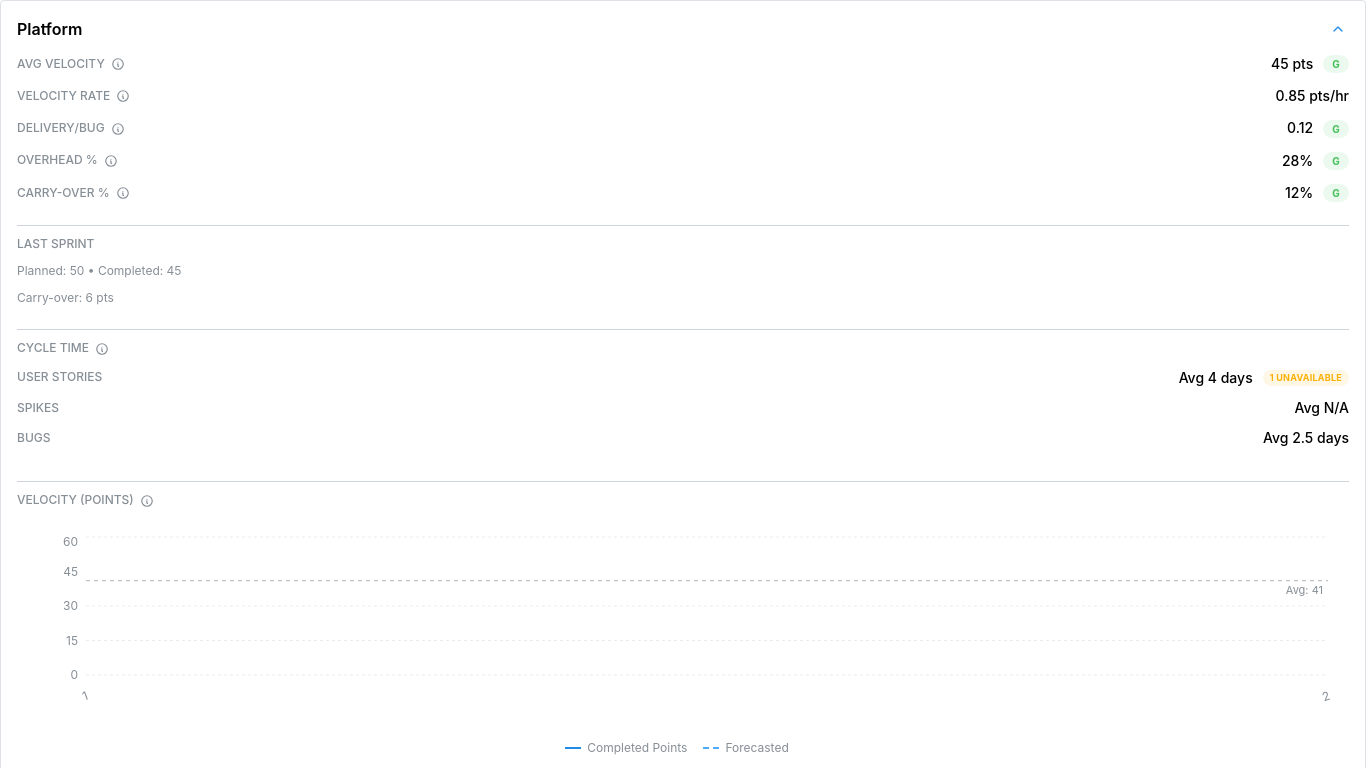
Test: WorkstreamHealthCard › metric definition tooltips (Story 3) › exposes definition copy on hover
The width and height of the screenshot is (1366, 768).
Hover over the button named "Definition for Overhead %" at (111, 161), box [102,152,120,170]
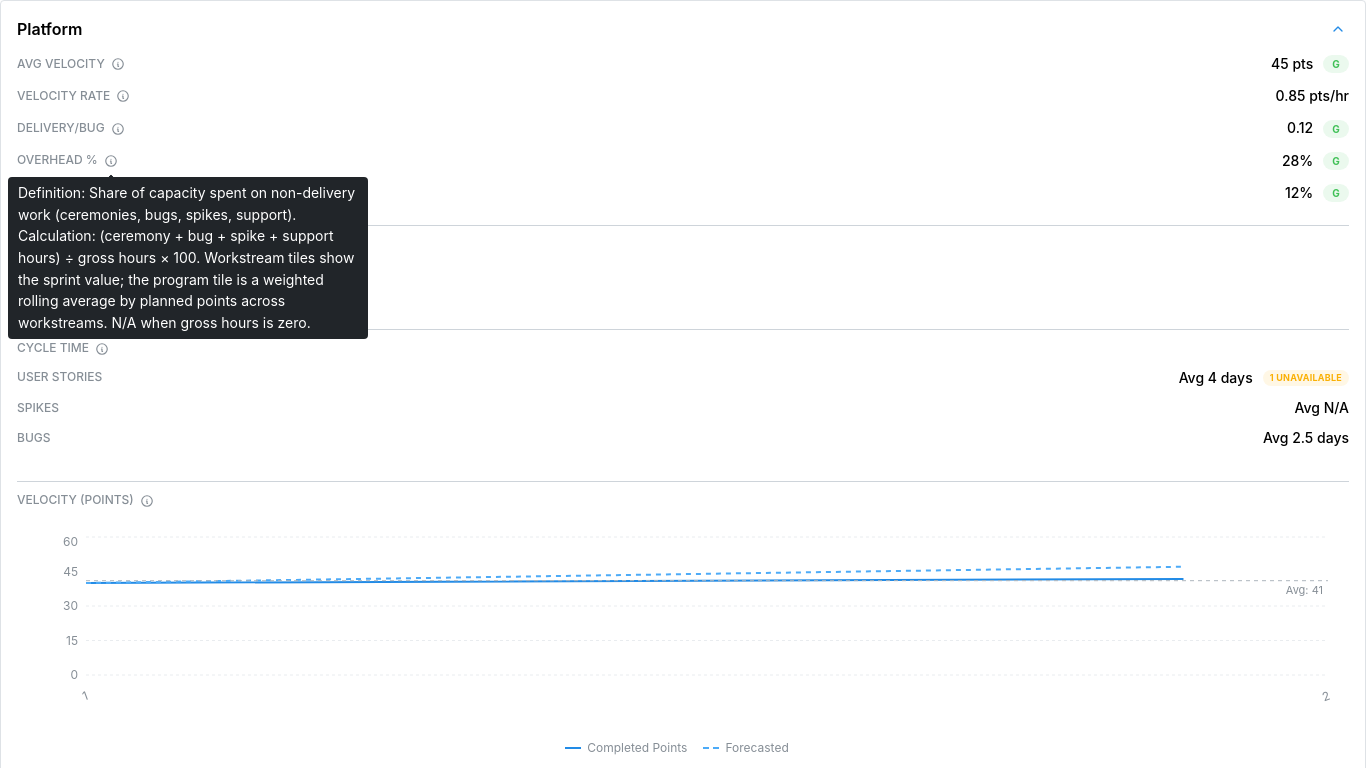
Expected: the tooltip shows "non-delivery work", [18,184,355,331]
